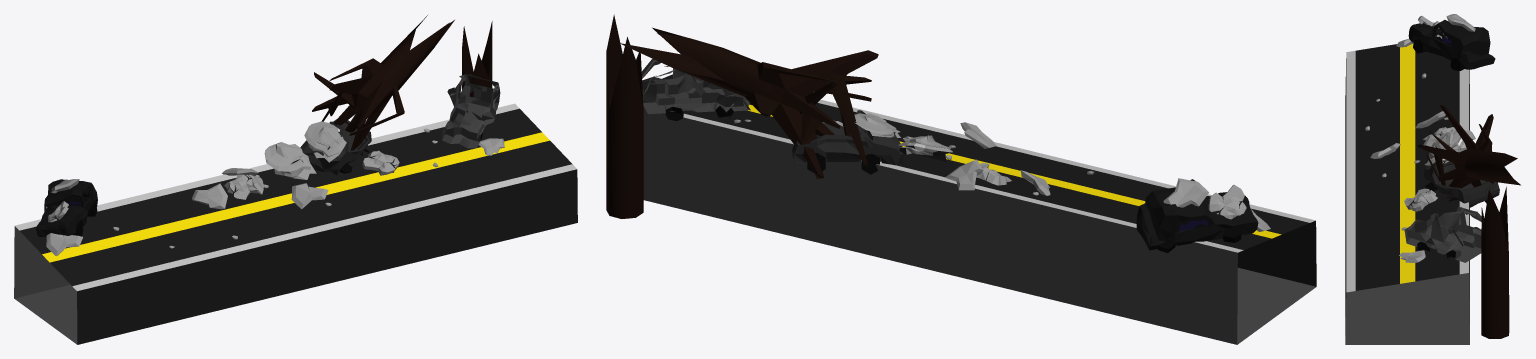
Rendered from home1@road.FBX.
The picture shows the model from 3 angles, left to right: view 1: azimuth 30°, elevation 25°; view 2: azimuth 150°, elevation 25°; view 3: azimuth 270°, elevation 25°; orthographic projection. The views are drawn at different scales.
Visible parts, largest first — view 1: Box003; view 2: Box003; view 3: Box003.
Part boxes in pixels (left/top/right/bottom): Box003: left=14, top=15, right=577, bottom=344; Box003: left=606, top=14, right=1316, bottom=344; Box003: left=1345, top=14, right=1520, bottom=344.
Bounding box in the file's own units: 154 × 47.09 × 47.91.
